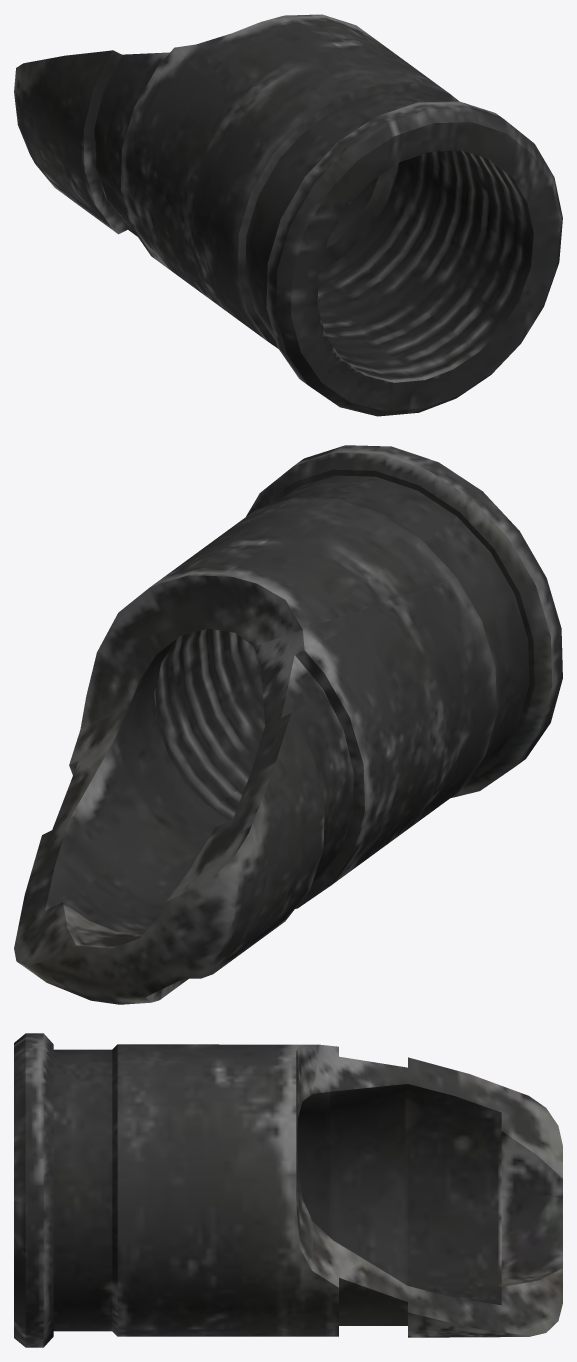
Rendered from freio_akmn.glb.
3 views of the same model, one above another, from view 1: azimuth 30°, elevation 25°; view 2: azimuth 150°, elevation 25°; view 3: azimuth 270°, elevation 25° (orthographic). The views are drawn at different scales.
Visible parts, largest first — view 1: freio_akmn_freio; view 2: freio_akmn_freio; view 3: freio_akmn_freio.
Boxes of the visible parts, x1=… form: freio_akmn_freio: x1=14, y1=14, x2=562, y2=416; freio_akmn_freio: x1=14, y1=445, x2=562, y2=1004; freio_akmn_freio: x1=14, y1=1033, x2=562, y2=1347.
Bounding box in the file's own units: 0.018 × 0.018 × 0.0314.
1 material, 1 textured.
